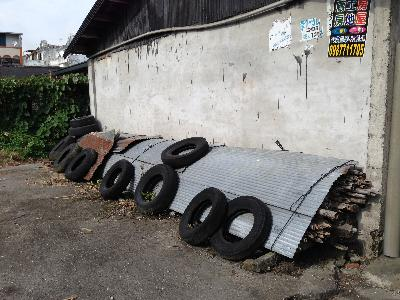tire: (211, 195, 273, 261), (180, 187, 229, 247), (133, 163, 180, 215), (161, 136, 209, 168), (99, 159, 134, 202), (65, 147, 99, 182), (52, 141, 81, 174), (67, 124, 98, 136), (70, 115, 95, 127)
